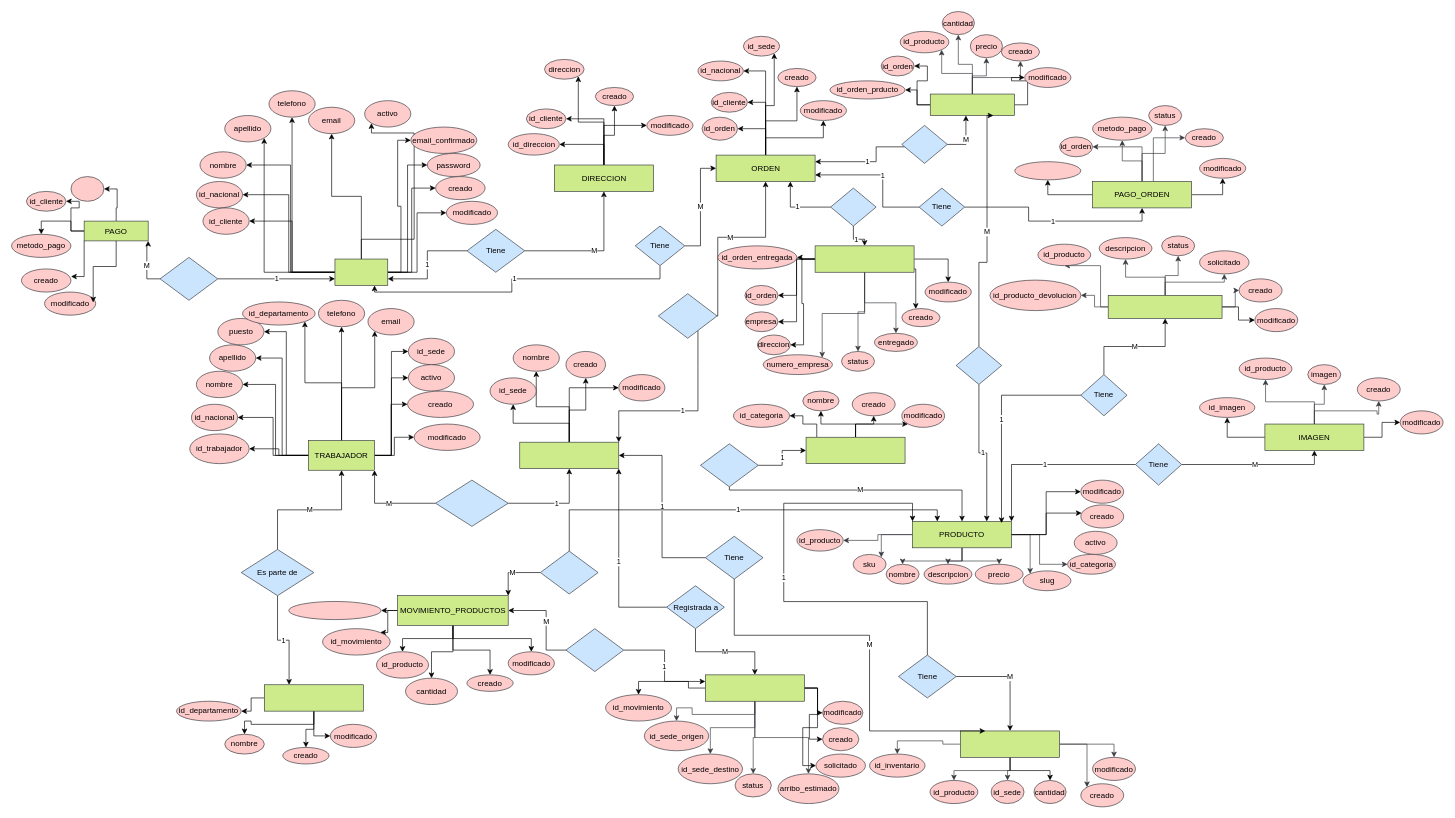
Some shapes in this 1455 by 818 pixel diagram are drawn without their labels. The centre of each missing label's shape, as x and y in pixels:
"Aparece" goes at (x=569, y=572).
"Asocian" goes at (x=924, y=144).
"CATEGORIA" goes at (x=855, y=450).
"CLIENTE" goes at (x=361, y=271).
"Contiene" goes at (x=188, y=278).
"DEPARTAMENTO" goes at (x=313, y=697).
"id_movimiento_producto" goes at (x=334, y=610).
"id_pago" goes at (x=87, y=188).
"id_pago_orden" goes at (x=1047, y=170).
"INVENTARIO" goes at (x=1010, y=743).
"MOVIMIENTO" goes at (x=754, y=687).
"ORDEN_ENTREGADA" goes at (x=864, y=258).
"ORDEN_PRODUCTO" goes at (x=972, y=104).
"Parte de" goes at (x=729, y=465).
"PRODUCTO_DEVOLUCION" goes at (x=1165, y=306).
"Registra" goes at (x=978, y=365).
"Registrada" goes at (x=853, y=206).
"Registrada en" goes at (x=687, y=315).
"Registran" goes at (x=594, y=650).
"SEDE" goes at (x=569, y=455).
"Trabaja en" goes at (x=471, y=502).
